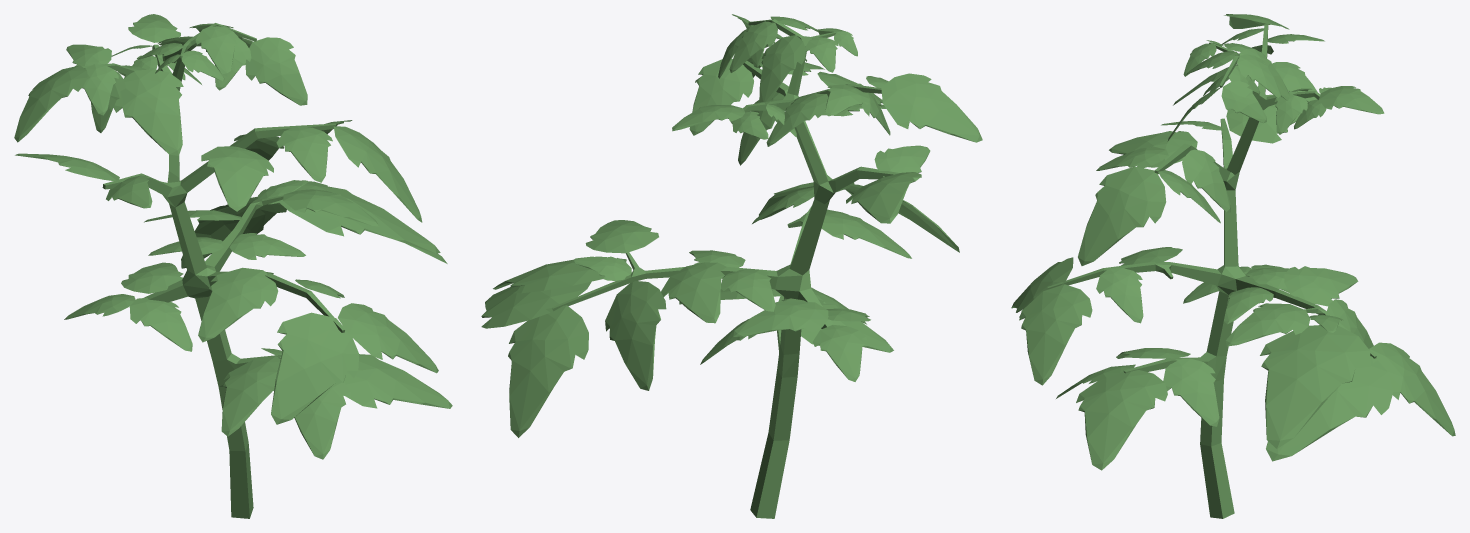
The model's file is TomatTahap3withoutFruit.fbx.
3 renders of one model, left to right at view 1: azimuth 30°, elevation 25°; view 2: azimuth 150°, elevation 25°; view 3: azimuth 270°, elevation 25°, orthographic. The views are drawn at different scales.
Parts seen in each view (by area): view 1: TomatTahap3.001; view 2: TomatTahap3.001; view 3: TomatTahap3.001.
Boxes of the visible parts, x1,y1,x2,y2 form: TomatTahap3.001: (14, 14, 452, 518); TomatTahap3.001: (481, 14, 982, 518); TomatTahap3.001: (1011, 14, 1455, 518).
Bounding box in the file's own units: 79.06 × 81.92 × 72.88.
